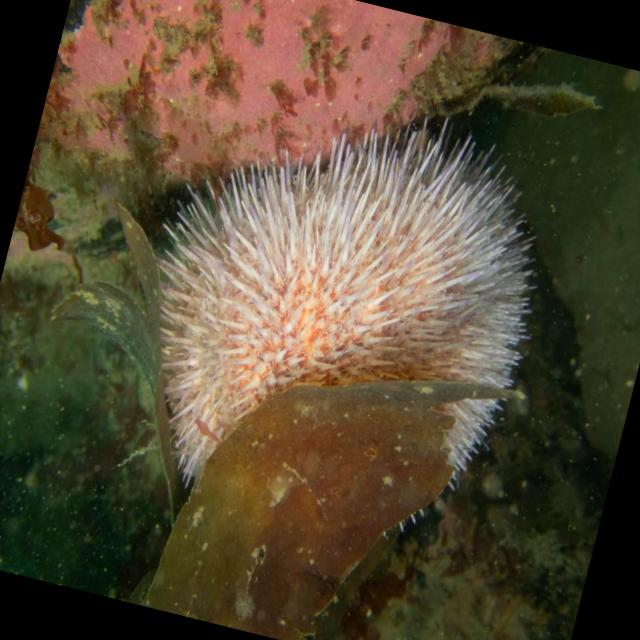Deniz Kestanesi: (93, 58, 578, 587)
